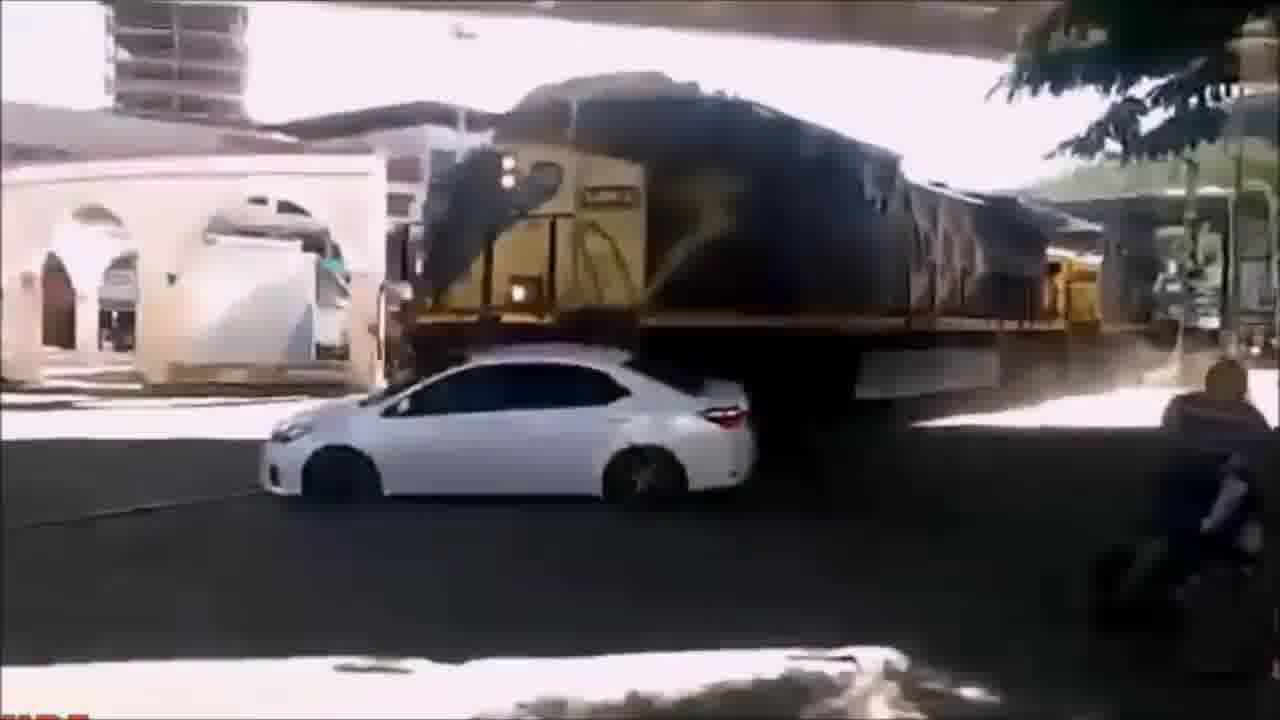crossing railway track: (206, 284, 836, 603)
